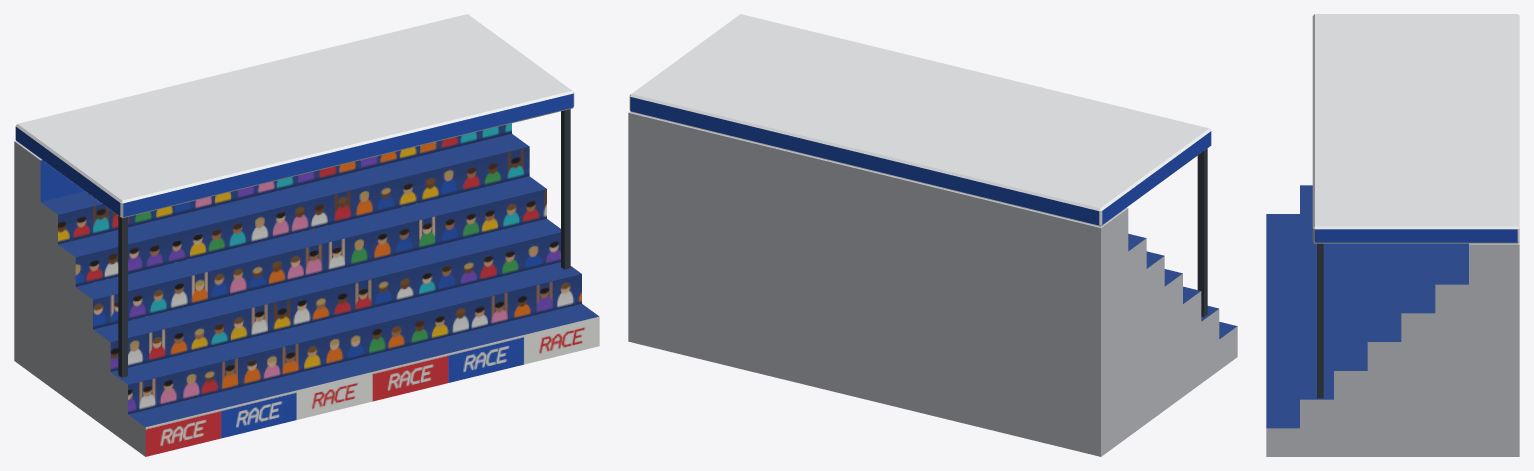
File: stand.glb
3 views of the same model, side by side, from view 1: azimuth 30°, elevation 25°; view 2: azimuth 150°, elevation 25°; view 3: azimuth 270°, elevation 25° (orthographic). The views are drawn at different scales.
Visible parts, largest first — view 1: stand; view 2: stand; view 3: stand.
Boxes of the visible parts, x1=… form: stand: x1=14, y1=14, x2=599, y2=456; stand: x1=628, y1=14, x2=1237, y2=456; stand: x1=1266, y1=14, x2=1519, y2=456.
Size of the model in its own units: 12 by 6 by 6.
Materials: 1 (1 with a texture image).
